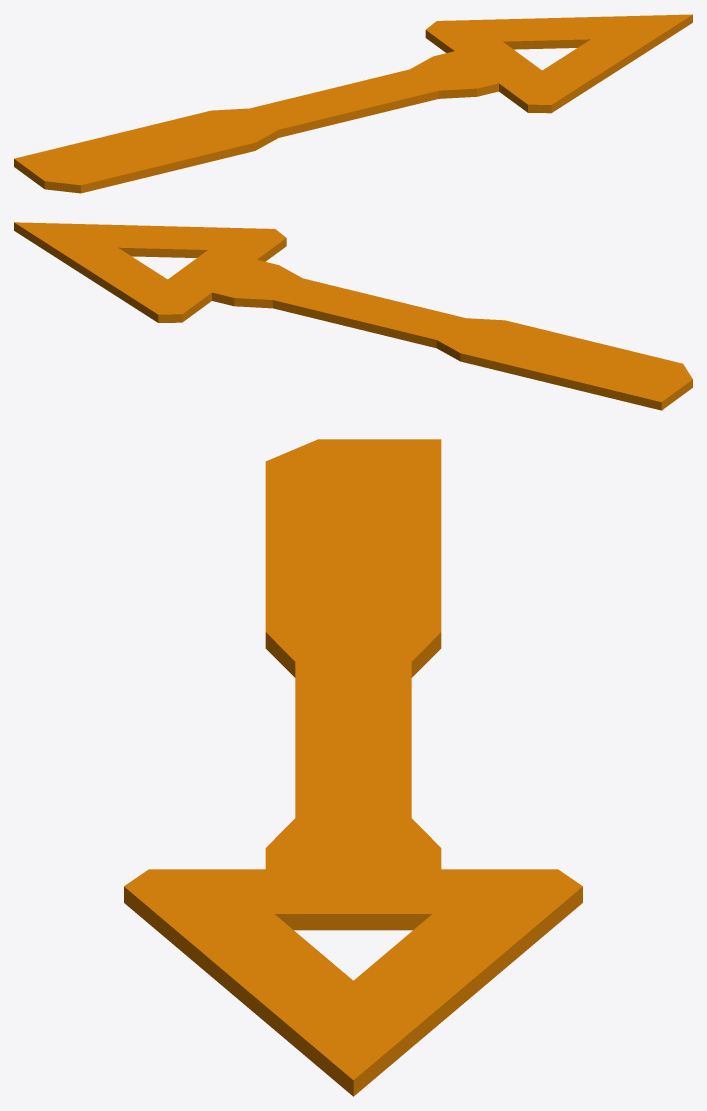
File: LPSciFi_StraightRoadArrow.fbx
3 views of the same model, one above another, from view 1: azimuth 30°, elevation 25°; view 2: azimuth 150°, elevation 25°; view 3: azimuth 270°, elevation 25° (orthographic). The views are drawn at different scales.
Parts seen in each view (by area): view 1: StraightRoadArrow; view 2: StraightRoadArrow; view 3: StraightRoadArrow.
Boxes of the visible parts, <box> form: StraightRoadArrow: <box>14,14,692,193</box>; StraightRoadArrow: <box>14,222,692,410</box>; StraightRoadArrow: <box>124,439,582,1096</box>.
Bounding box in the file's own units: 201 × 2.4 × 60.82.
